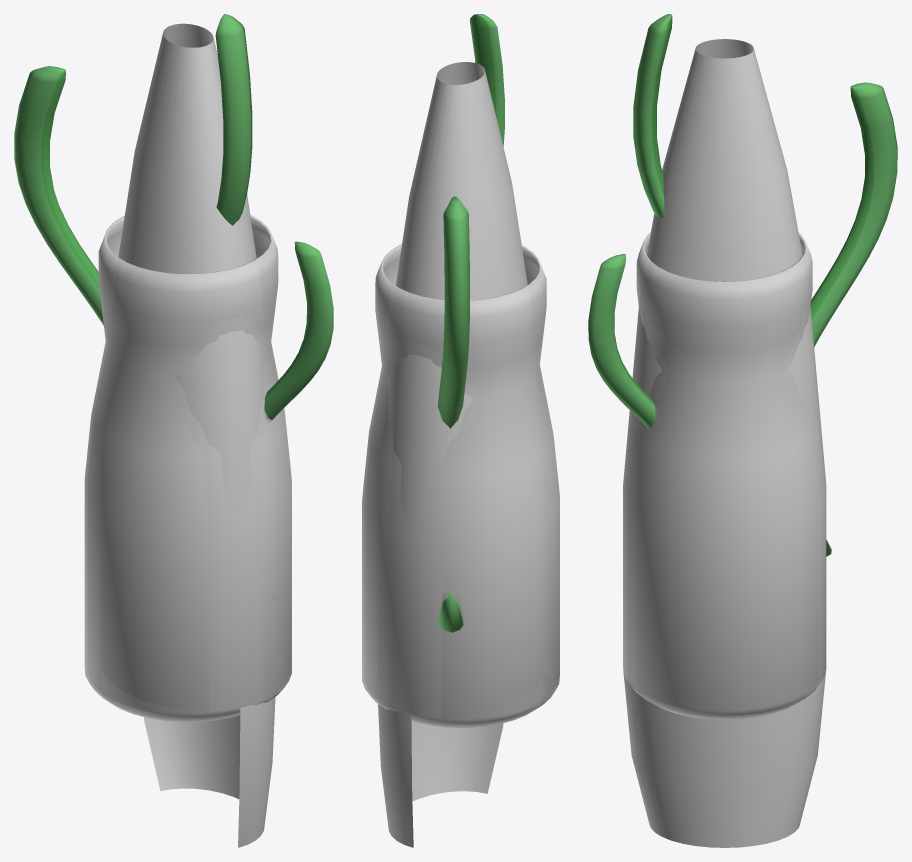
Rendered from thin seaweed.fbx.
3 renders of one model, left to right at view 1: azimuth 30°, elevation 25°; view 2: azimuth 150°, elevation 25°; view 3: azimuth 270°, elevation 25°, orthographic. The views are drawn at different scales.
Parts seen in each view (by area): view 1: Cylinder, Cylinder.005, NurbsPath.002, NurbsPath, NurbsPath.001; view 2: Cylinder, Cylinder.005, NurbsPath.002, NurbsPath; view 3: Cylinder, Cylinder.005, NurbsPath.002, NurbsPath.001, NurbsPath.
Part boxes in pixels (<box>): Cylinder: <box>84,215,291,721</box>; Cylinder.005: <box>118,23,275,847</box>; NurbsPath.002: <box>14,66,103,325</box>; NurbsPath: <box>215,14,252,225</box>; NurbsPath.001: <box>264,241,333,421</box>; Cylinder: <box>362,244,559,727</box>; Cylinder.005: <box>378,62,527,847</box>; NurbsPath.002: <box>437,196,469,632</box>; NurbsPath: <box>469,14,504,146</box>; Cylinder: <box>623,232,826,719</box>; Cylinder.005: <box>623,39,826,847</box>; NurbsPath.002: <box>810,82,897,556</box>; NurbsPath.001: <box>588,254,657,429</box>; NurbsPath: <box>633,14,672,217</box>.
Bounding box in the file's own units: 200 × 877 × 304.
